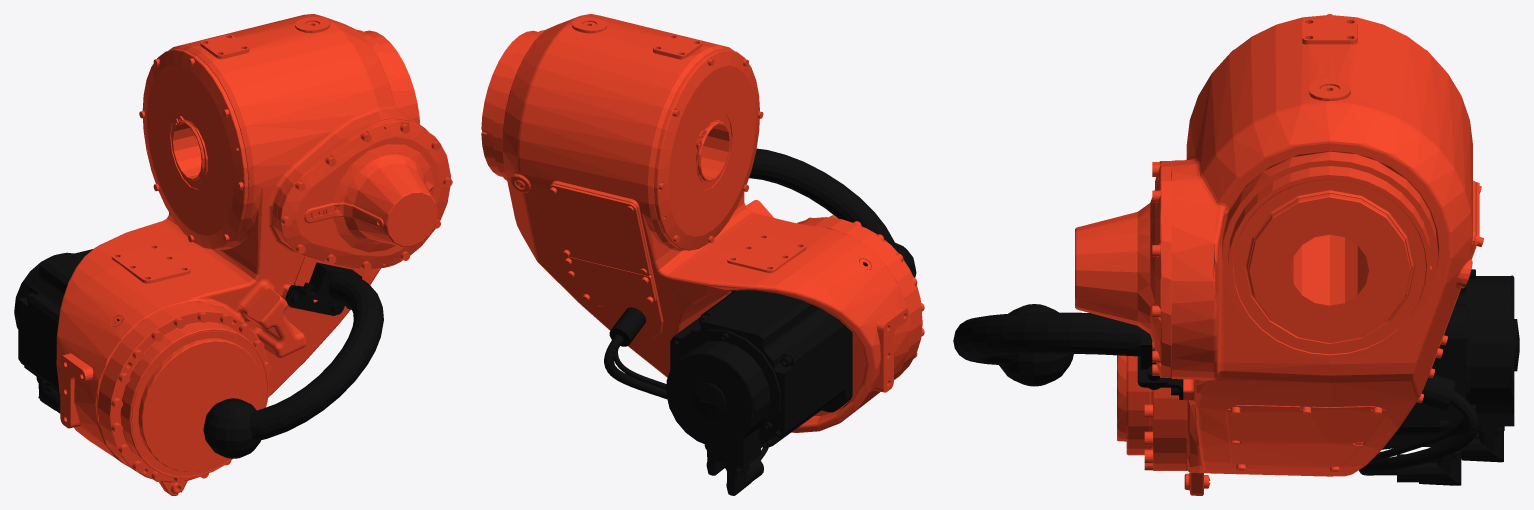
3 renders of one model, left to right at view 1: azimuth 30°, elevation 25°; view 2: azimuth 150°, elevation 25°; view 3: azimuth 270°, elevation 25°, orthographic. The views are drawn at different scales.
Parts seen in each view (by area): view 1: link_3; view 2: link_3; view 3: link_3.
Part boxes in pixels (x1,y1,x2,y2): link_3: (14, 14, 452, 495); link_3: (481, 14, 924, 495); link_3: (953, 14, 1519, 495).
Size of the model in its own units: 0.4005 by 0.4112 by 0.426.
